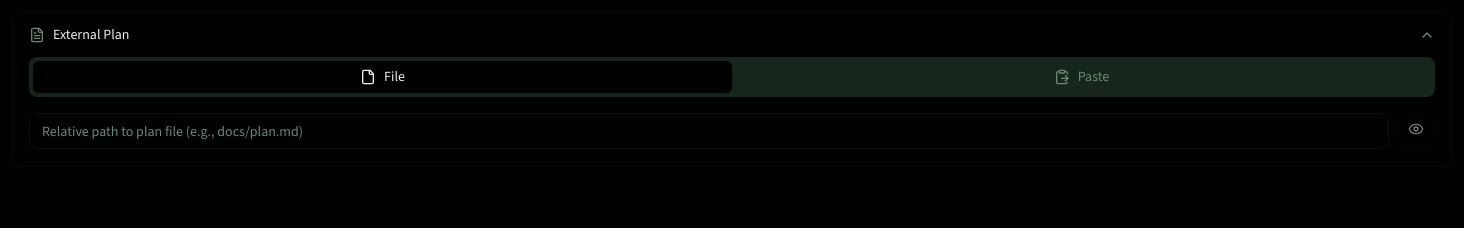
Test: PlanImportSection › file preview (text input fallback) › shows inline error when file not found
Type "missing.md" into the field with placeholder "Relative path to plan file (e.g., docs/plan.md)" at (709, 131), box x1=29 y1=113 x2=1389 y2=149
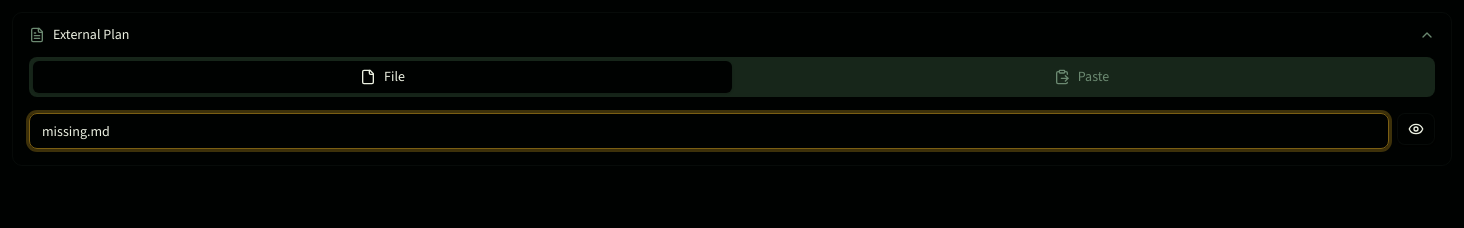
Click the button named "preview" at (1416, 129), box x1=1397 y1=113 x2=1435 y2=145
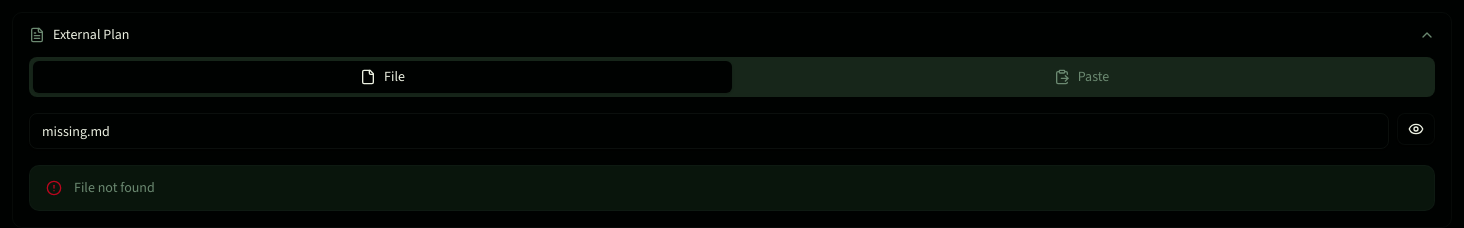
Expected: the text "File not found" is shown, x1=74 y1=178 x2=155 y2=197
